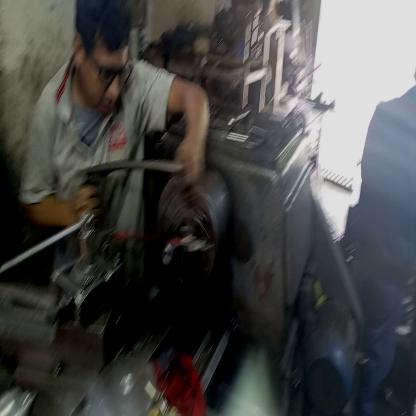lentes: (83, 42, 131, 95)
